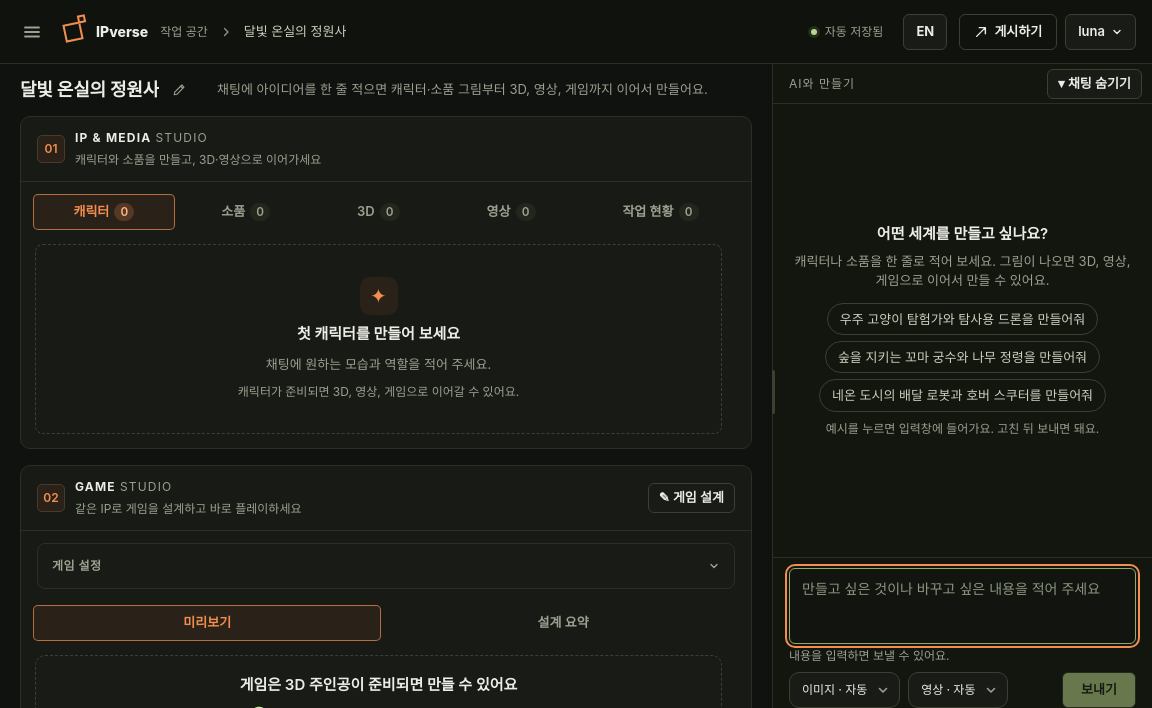
Test: the start screen can be reached from a session at any width (new finding 9) › the ☰ drawer has a row that goes there, and closes
Click the button with class "menu-btn" at (34, 32), box [16, 14, 52, 50]
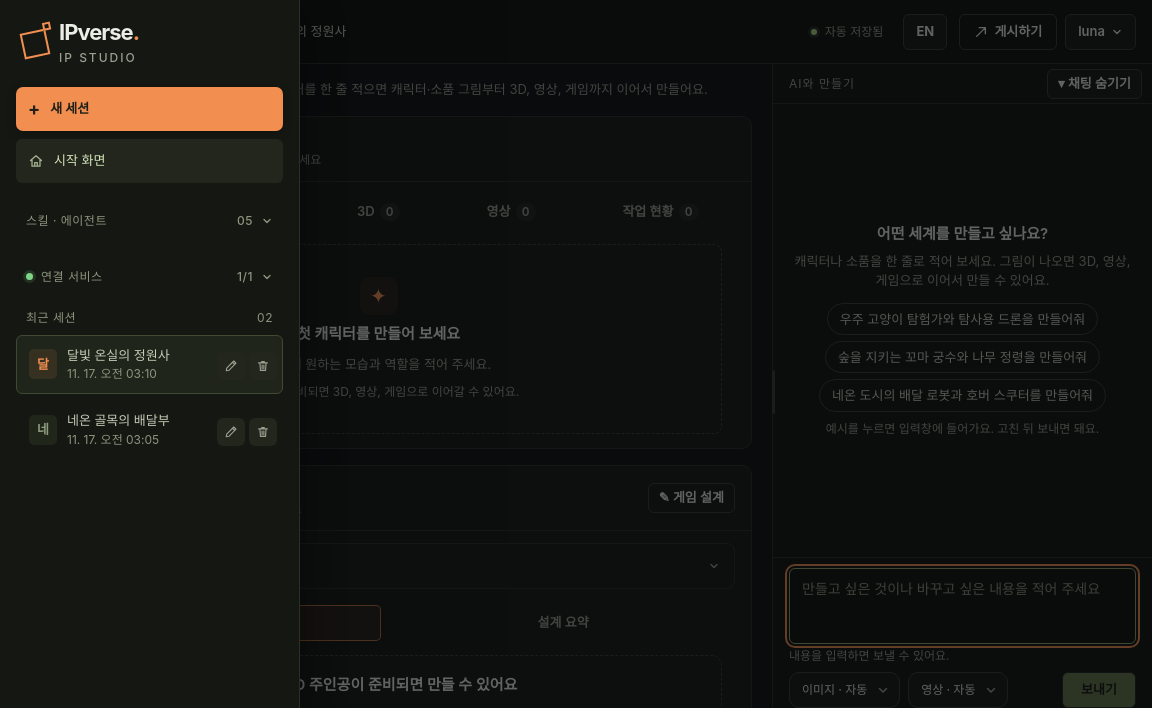
Now the button with class "side-home" reads "시작 화면"
Click the button with class "side-home" at (80, 160), box [16, 139, 283, 183]
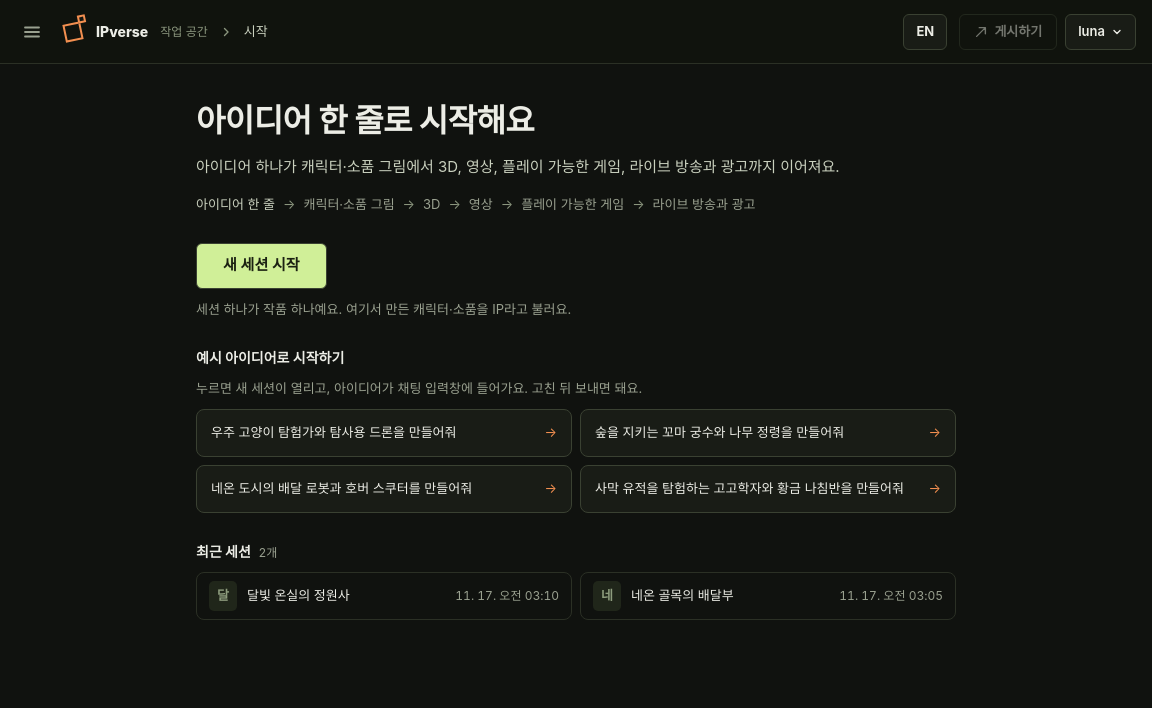
Now the heading "아이디어 한 줄로 시작해요" is shown, box [196, 101, 534, 140]
Now the button with class "side-home" is gone
